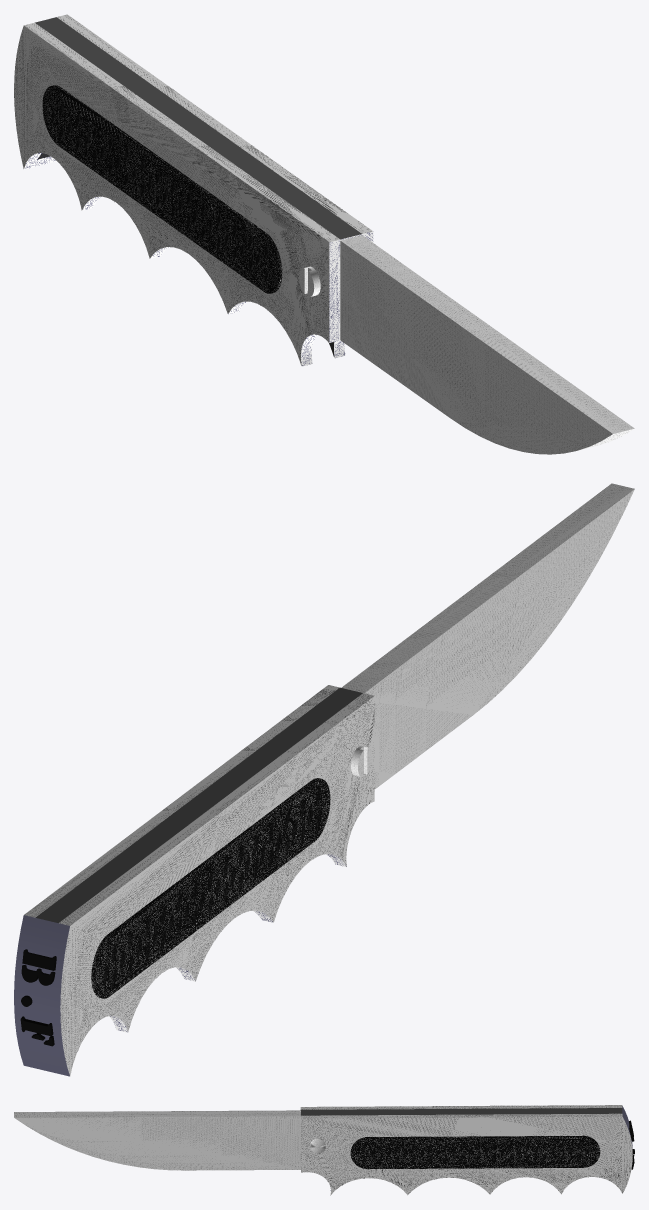
The model's file is model_scale.obj.
3 renders of one model, top to bottom at view 1: azimuth 30°, elevation 25°; view 2: azimuth 150°, elevation 25°; view 3: azimuth 270°, elevation 25°, orthographic. The views are drawn at different scales.
Parts seen in each view (by area): view 1: mesh14_mesh14-geometry; view 2: mesh14_mesh14-geometry; view 3: mesh14_mesh14-geometry, mesh15_mesh15-geometry.
Boxes of the visible parts, x1,y1,x2,y2 form: mesh14_mesh14-geometry: (14, 14, 634, 454); mesh14_mesh14-geometry: (14, 483, 634, 1076); mesh14_mesh14-geometry: (14, 1105, 632, 1195); mesh15_mesh15-geometry: (350, 1135, 600, 1169).
Size of the model in its own units: 0.0125 by 0.0283 by 0.2051.
